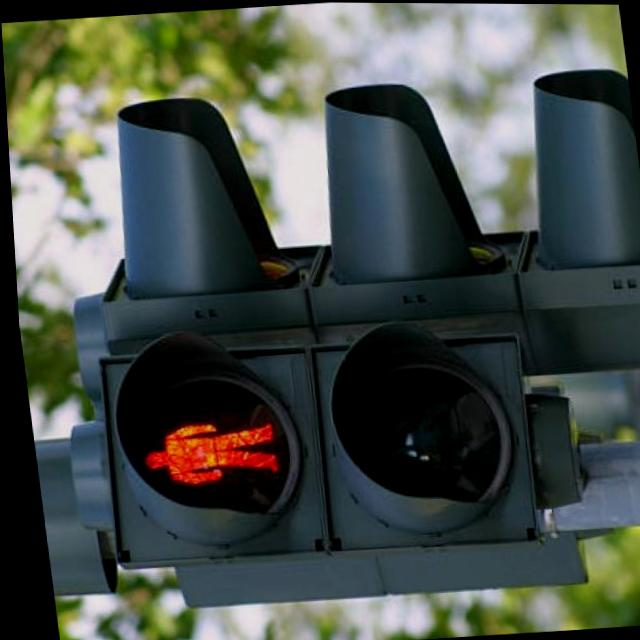red_light: (115, 403, 287, 501)
